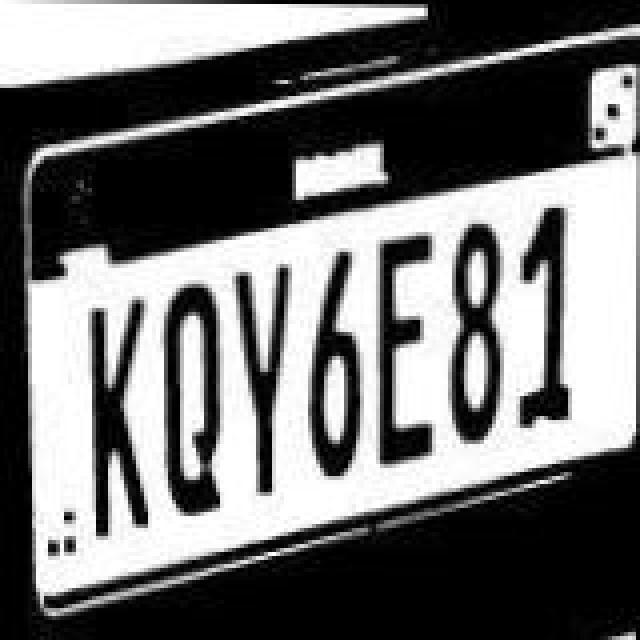1: (514, 194, 578, 458)
6: (294, 236, 358, 492)
8: (438, 210, 502, 474)
E: (354, 226, 434, 486)
K: (74, 262, 146, 542)
Q: (148, 248, 224, 524)
Y: (226, 228, 282, 504)
